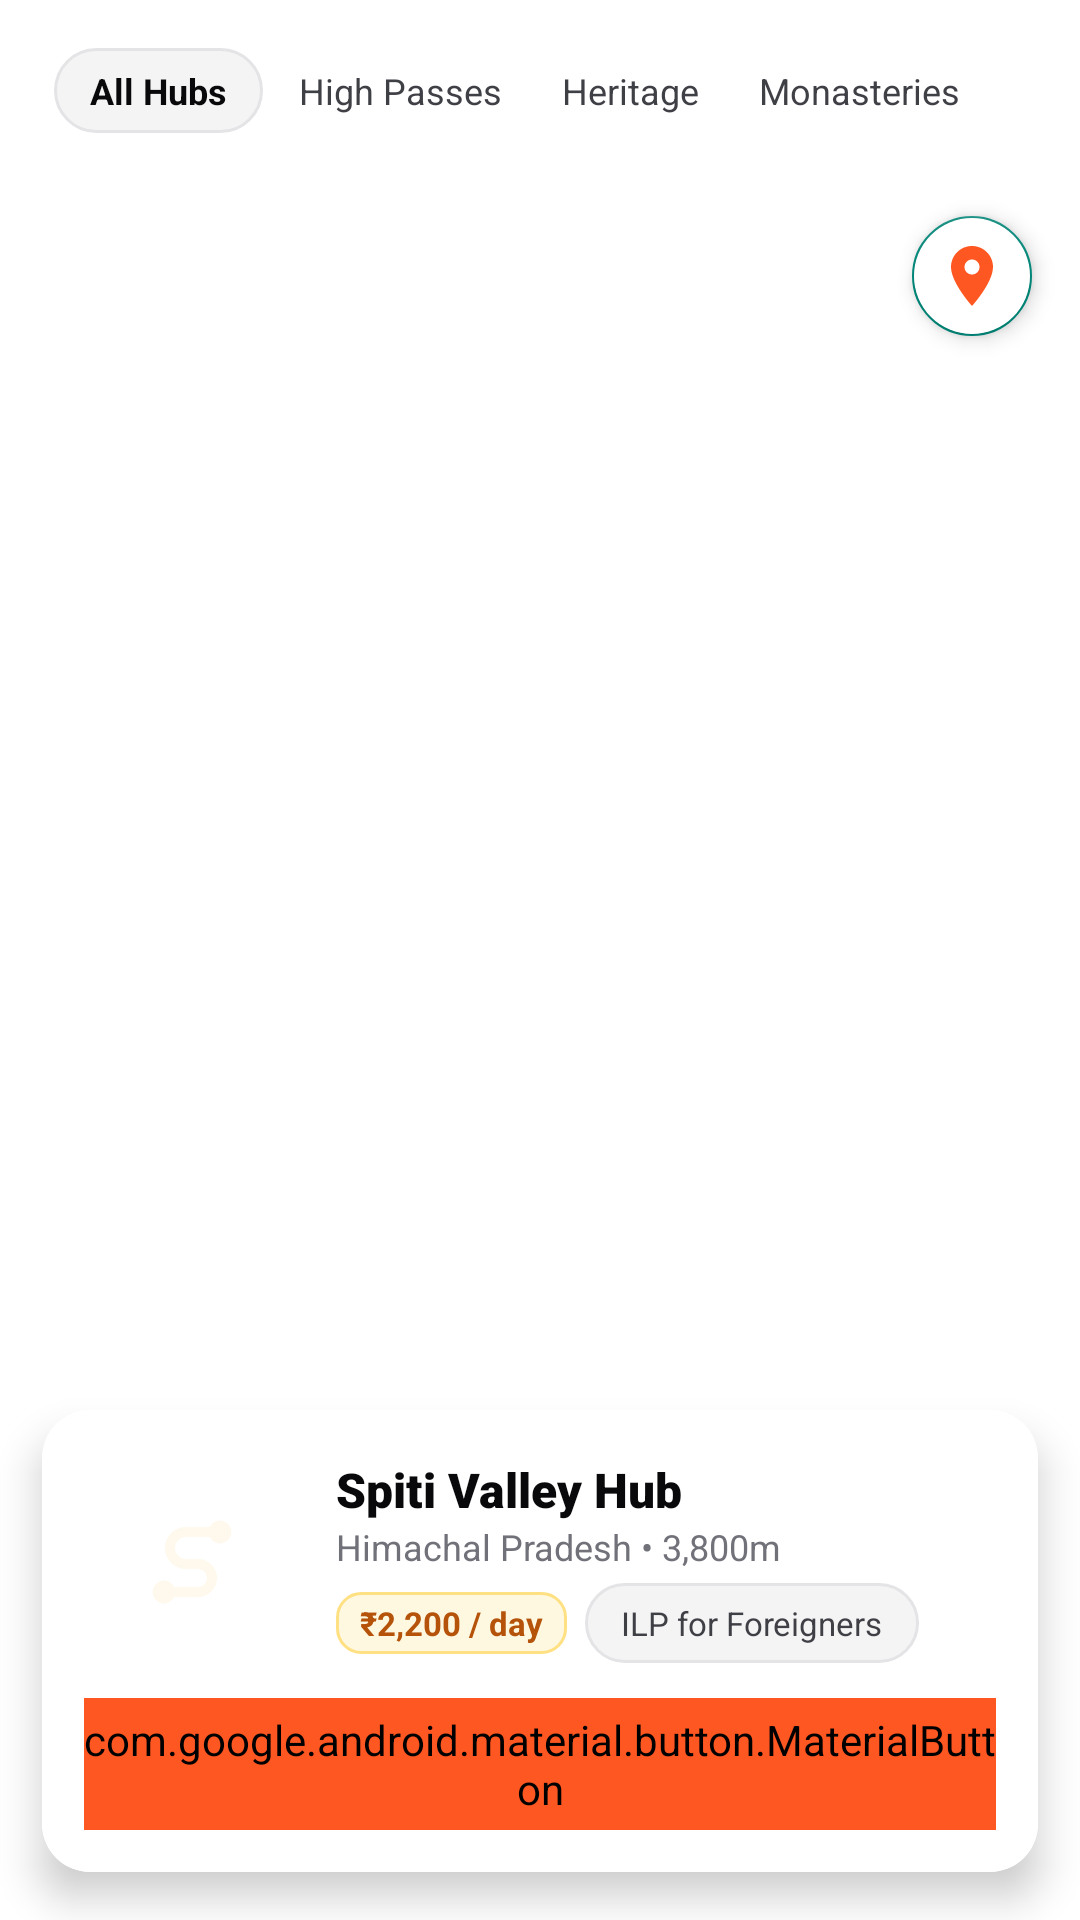

Icon click points for this 1080w x 1920h phone screenshot, format (x=x, y=y):
Center India Map: (x=972, y=276)
